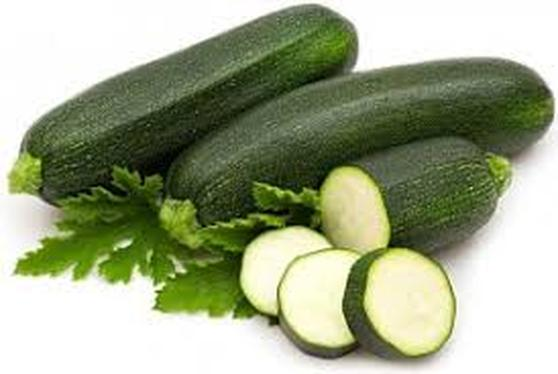zucchini: (160, 44, 557, 223)
